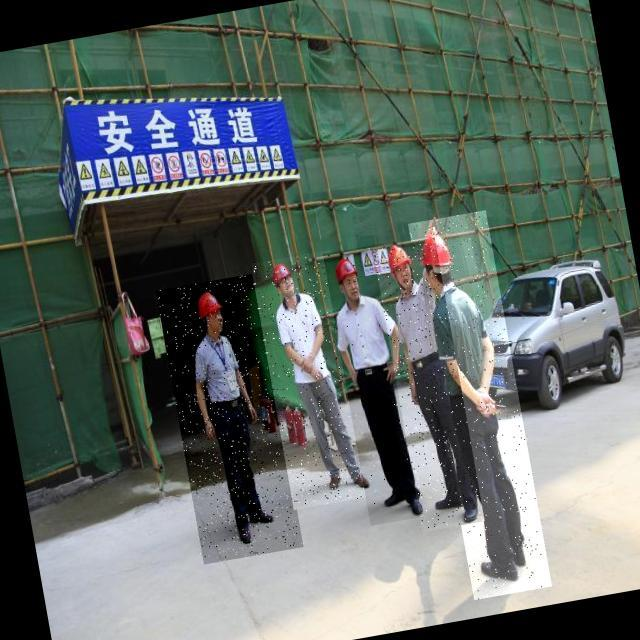Helmet: (416, 229, 455, 268), (198, 289, 228, 322), (385, 242, 413, 276), (334, 256, 359, 284), (270, 262, 295, 288)
Human: (408, 210, 553, 600), (156, 273, 305, 564), (373, 237, 485, 532), (251, 249, 374, 509), (323, 243, 432, 526)
Safety Boot: (482, 555, 523, 586), (434, 494, 463, 511), (251, 508, 278, 526), (351, 470, 371, 492), (239, 520, 256, 545), (382, 490, 405, 508), (462, 504, 480, 523), (408, 495, 424, 516), (327, 475, 343, 491)
